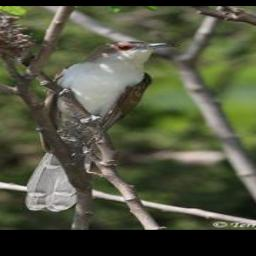Cuckoo: (19, 38, 179, 211)
